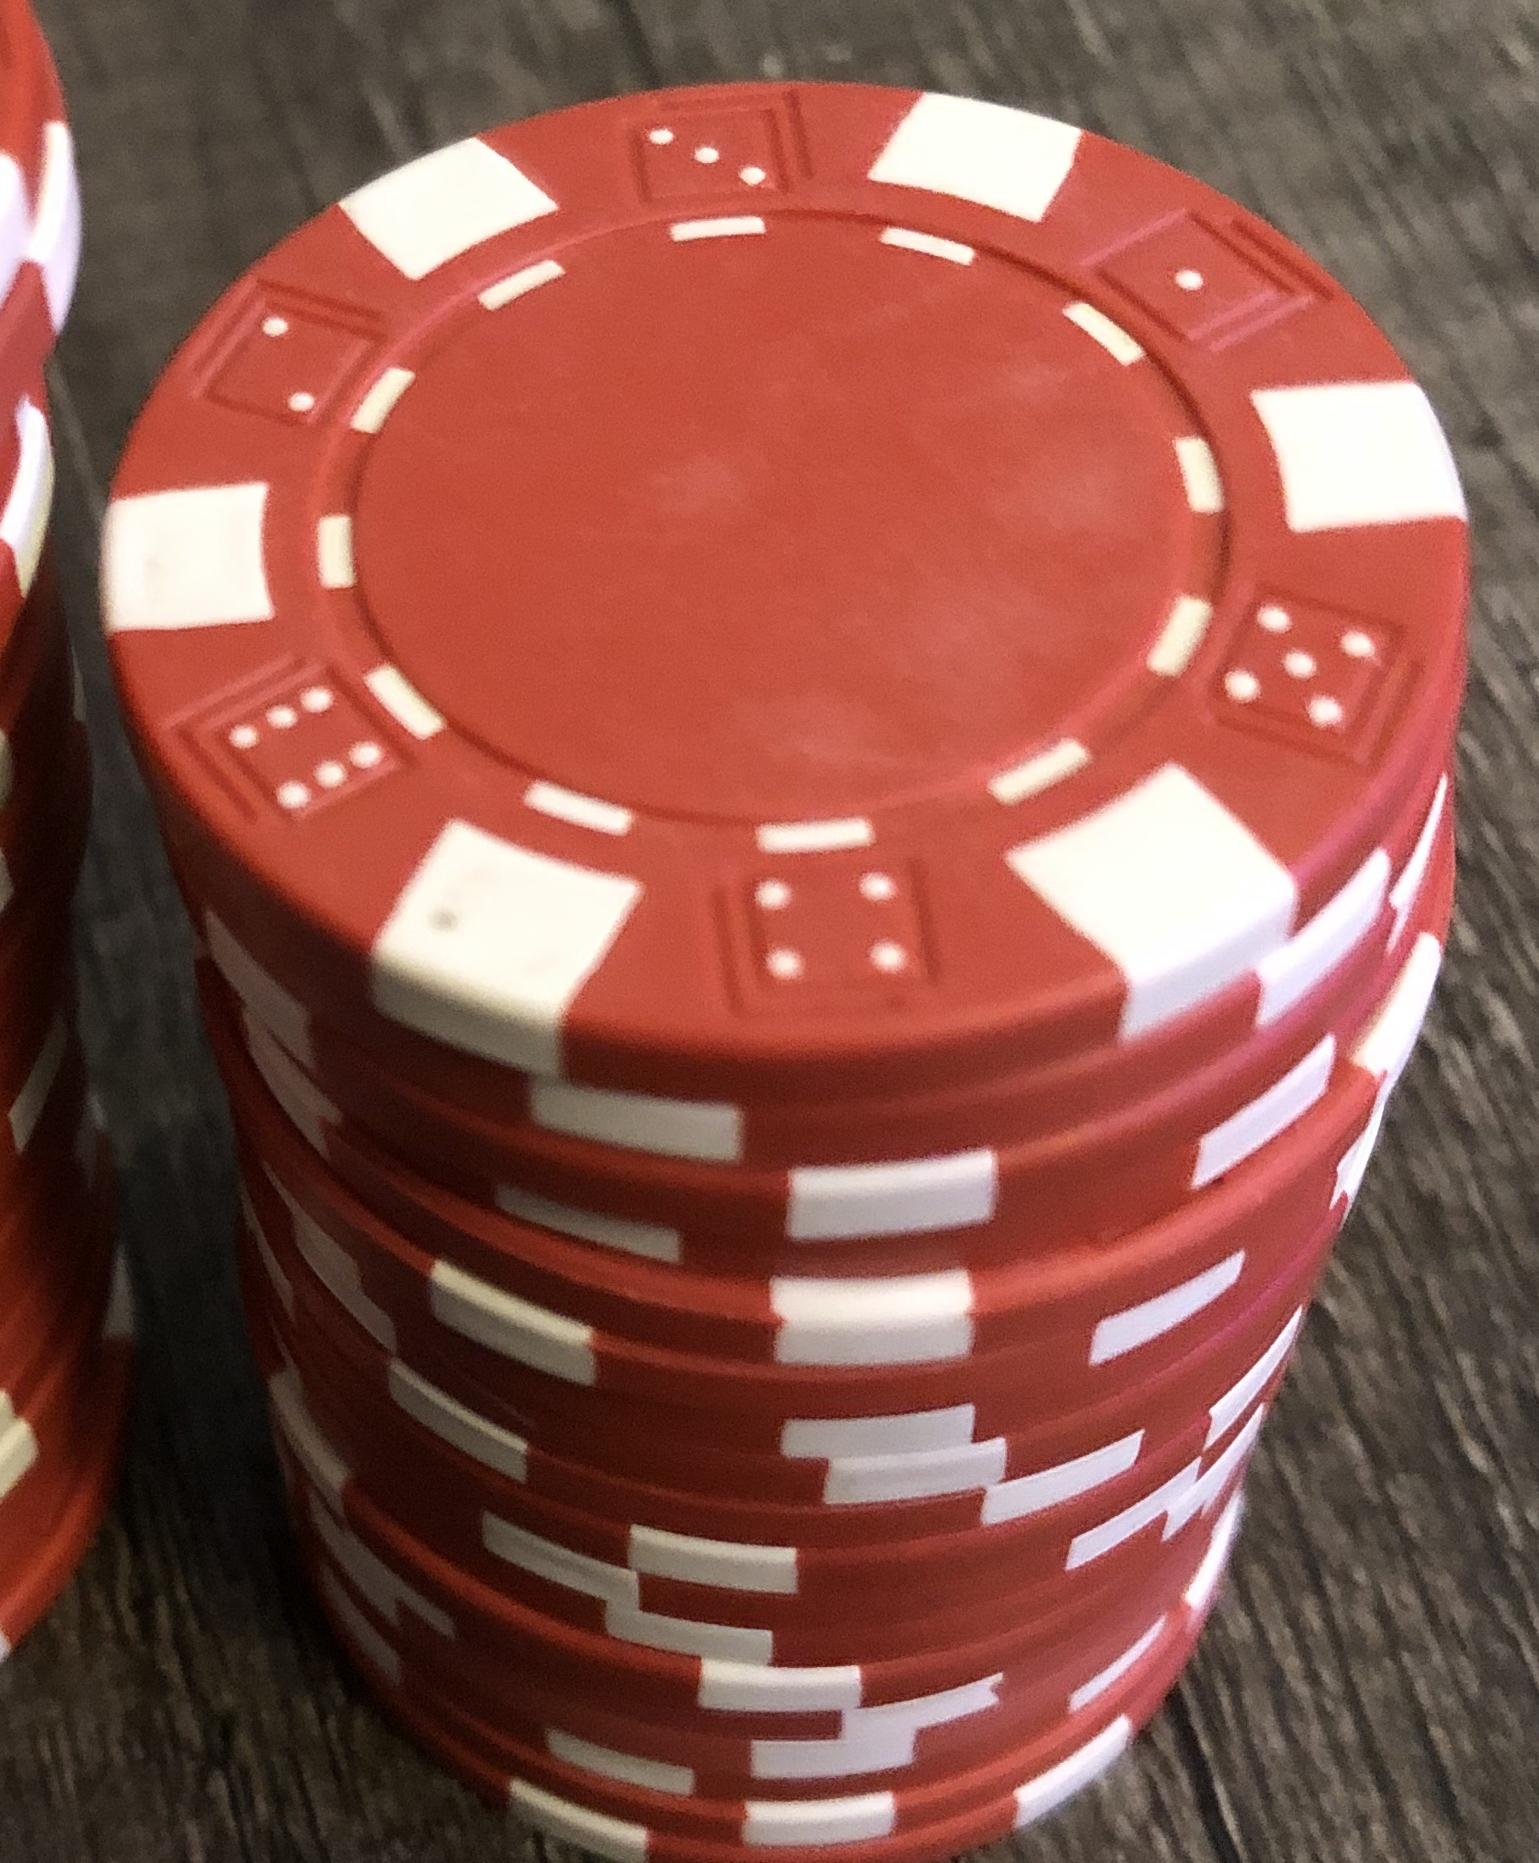Chip: (2, 2, 1539, 1863)
